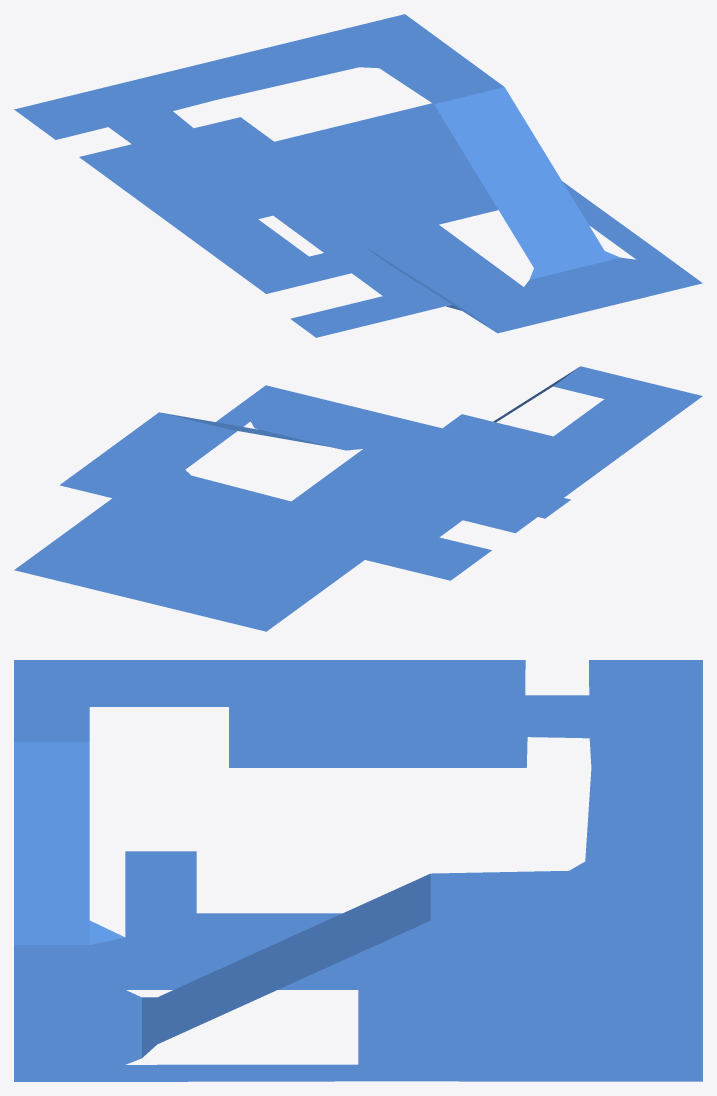
File: Navmesh.glb
3 views of the same model, one above another, from view 1: azimuth 30°, elevation 25°; view 2: azimuth 150°, elevation 25°; view 3: azimuth 270°, elevation 25° (orthographic). The views are drawn at different scales.
Parts seen in each view (by area): view 1: Navmesh; view 2: Navmesh; view 3: Navmesh.
Part boxes in pixels (x1,y1,x2,y2): Navmesh: (14,14,702,337); Navmesh: (14,366,702,631); Navmesh: (14,660,702,1081).
Size of the model in its own units: 9.54 by 2 by 9.55.
